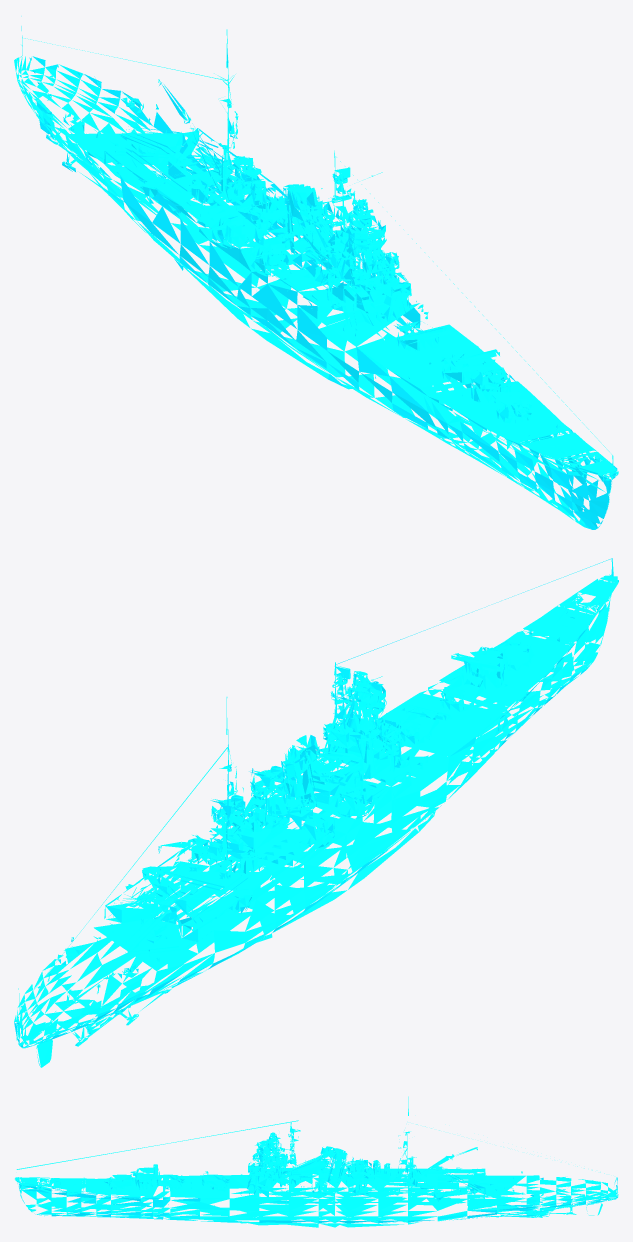
The model's file is Tone.glb.
The picture shows the model from 3 angles, top to bottom: view 1: azimuth 30°, elevation 25°; view 2: azimuth 150°, elevation 25°; view 3: azimuth 270°, elevation 25°; orthographic projection. The views are drawn at different scales.
Size of the model in its own units: 1.65 by 2.95 by 13.45.
